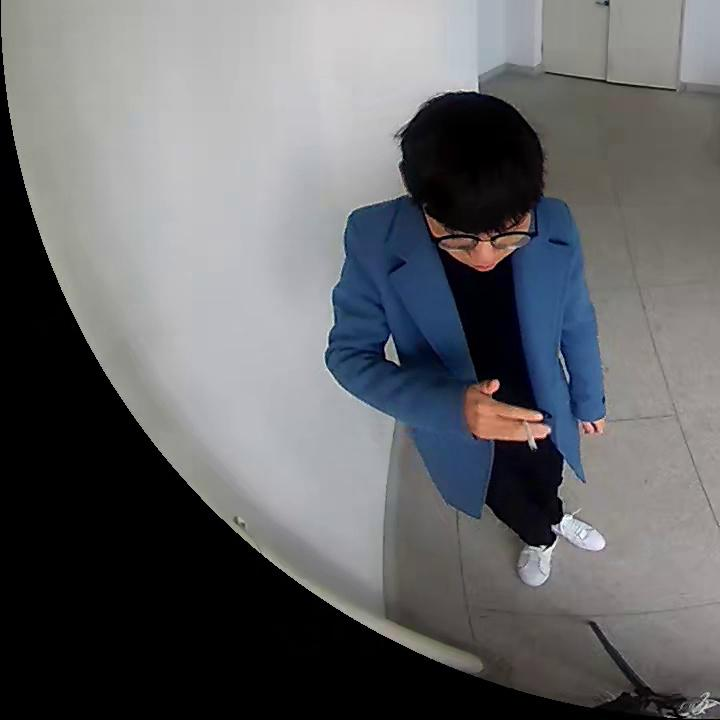handsmoke: (467, 385, 554, 449)
handwithoutsmoke: (576, 417, 611, 440)
mouthwithoutsmoke: (404, 91, 548, 273)
